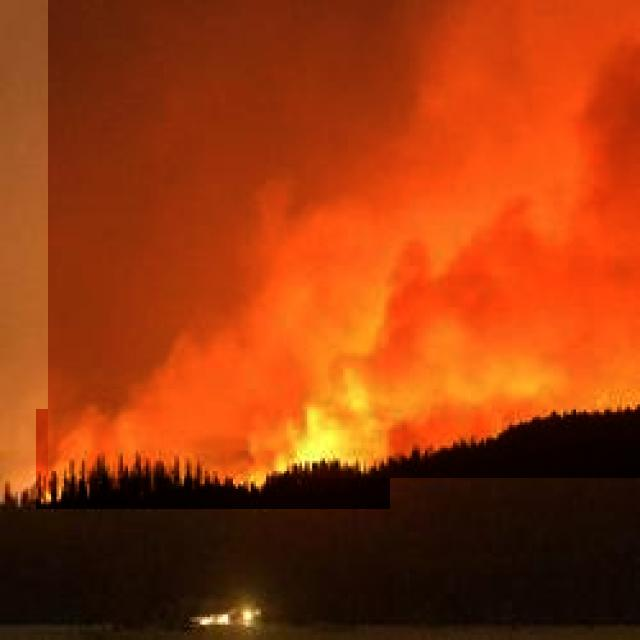Fire: (36, 409, 390, 509)
Smoke: (48, 0, 640, 478)
